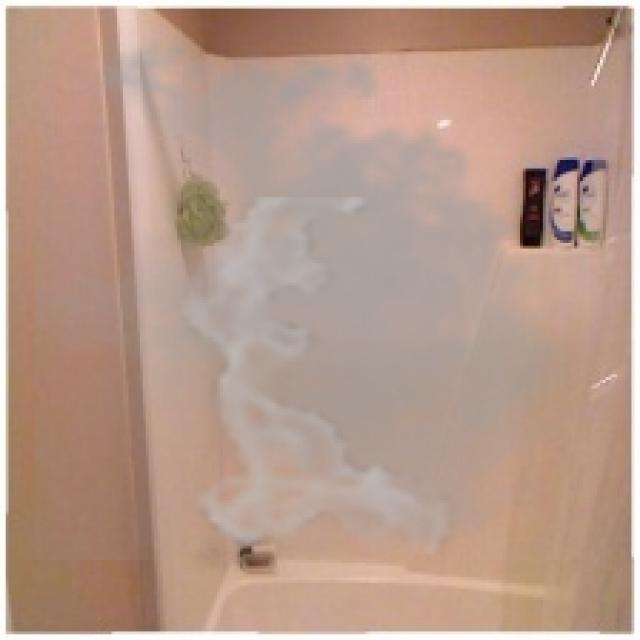smoke: (34, 20, 594, 560)
